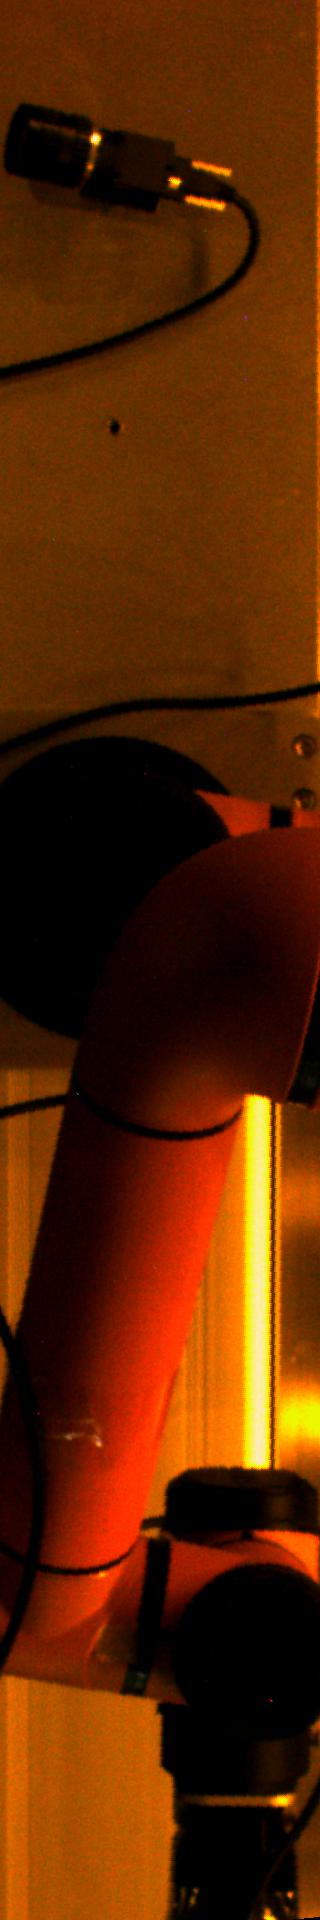keyPoint_2: (99, 414, 129, 444)
